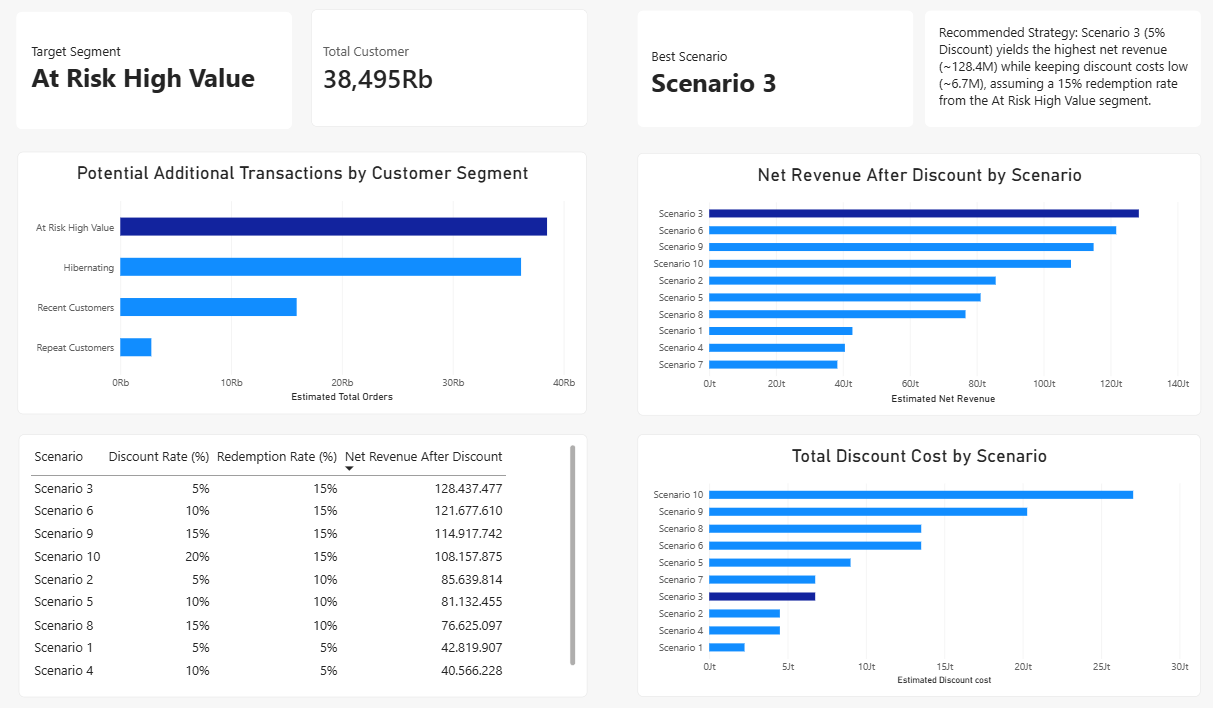

This screenshot's page, from the dashboard's own definition file:
{"tool":"powerbi","page":{"name":"Business Strategy","canvas":[1920,1080],"ordinal":2},"visuals":[{"type":"cardVisual","fields":{"Data":["customer_segmentation.At Risk Customers"]},"box":[486,46,400,170],"z":0},{"type":"shape","box":[1375,46.3,399.6,168.7],"z":0,"group":"g2"},{"type":"shape","box":[960,47.3,399.6,168.7],"z":0,"group":"g3"},{"type":"shape","box":[60,48,399.2,170],"z":0,"group":"g1"},{"type":"textbox","box":[1375.4,45,399.6,168.4],"z":1000,"group":"g2"},{"type":"group","id":"g1","title":"Grup 1","box":[60,48,402,172],"z":1000},{"type":"textbox","box":[61,71,400,148],"z":1000,"group":"g1"},{"type":"textbox","box":[960,80.7,400,138],"z":1000,"group":"g3"},{"type":"barChart","title":"Potential Additional Transactions by Customer Segment","fields":{"Category":["WHAT-IF FREQUENCY GROW.Customer Segment"],"Y":["Sum(WHAT-IF FREQUENCY GROW.Estimated Additional Transactions)"]},"box":[62,252,824,380],"z":2000},{"type":"barChart","title":"Net Revenue After Discount by Scenario","fields":{"Category":["Scenario Simulation.Scenario"],"Y":["Sum(Scenario Simulation.Net Revenue After Discount)"]},"box":[960,252.5,816,380],"z":3000},{"type":"tableEx","fields":{"Values":["Scenario Simulation.Scenario","Sum(Scenario Simulation.Discount Rate)","Sum(Strategi Reaktivasi.Redemption Rate)","Sum(Scenario Simulation.Net Revenue After Discount)"]},"box":[62.5,659.6,823.6,380.6],"z":4000},{"type":"barChart","title":"Total Discount Cost by Scenario","fields":{"Category":["Scenario Simulation.Scenario"],"Y":["Sum(Scenario Simulation.Discount Cost)"]},"box":[960,660,815,380],"z":5000},{"type":"group","id":"g2","title":"Grup 1","box":[1375,45,400,170],"z":6000},{"type":"group","id":"g3","title":"Grup 1","box":[960,47.3,400,171.4],"z":7000}]}

Visuals, with their boxes on the page's 1920x1080 design canvas (x1, y1, x2, y2). These are canvas units, not pixel positions in the 1213x708 screenshot, which may show the page scaled, cropped or inside an application window:
cardVisual - customer_segmentation.At Risk Customers: BBox(486, 46, 886, 216)
shape: BBox(1375, 46, 1775, 215)
shape: BBox(960, 47, 1360, 216)
shape: BBox(60, 48, 459, 218)
textbox: BBox(1375, 45, 1775, 213)
"Grup 1" group: BBox(60, 48, 462, 220)
textbox: BBox(61, 71, 461, 219)
textbox: BBox(960, 81, 1360, 219)
"Potential Additional Transactions by Customer Segment" barChart: BBox(62, 252, 886, 632)
"Net Revenue After Discount by Scenario" barChart: BBox(960, 252, 1776, 632)
tableEx - Scenario Simulation.Scenario x Sum(Scenario Simulation.Discount Rate): BBox(62, 660, 886, 1040)
"Total Discount Cost by Scenario" barChart: BBox(960, 660, 1775, 1040)
"Grup 1" group: BBox(1375, 45, 1775, 215)
"Grup 1" group: BBox(960, 47, 1360, 219)
